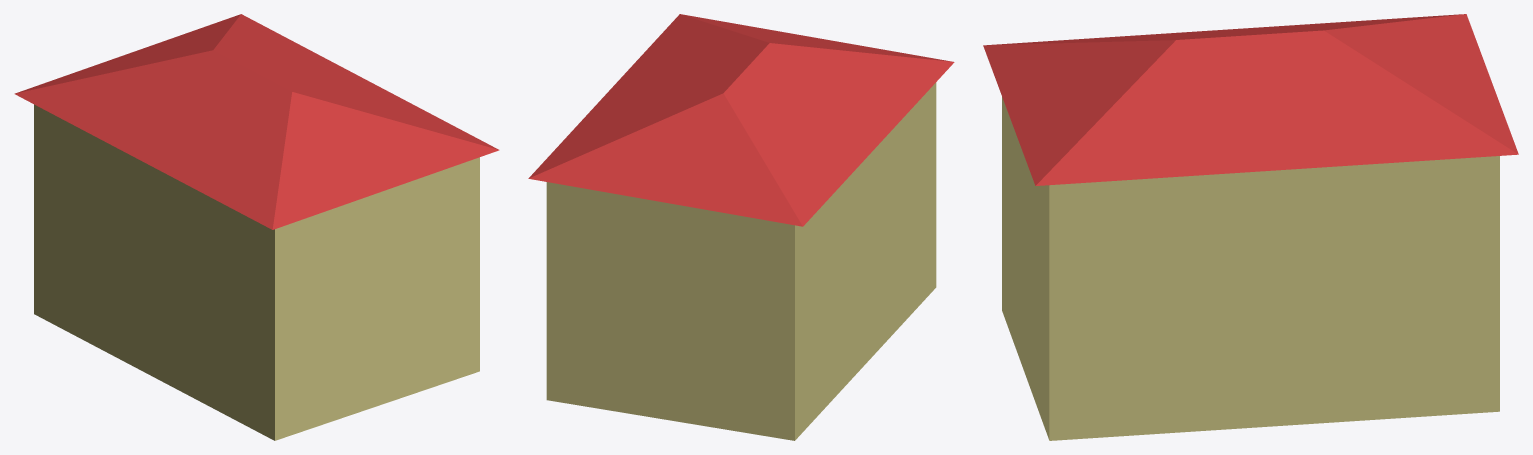
3 views of the same model, side by side, from view 1: azimuth 30°, elevation 25°; view 2: azimuth 150°, elevation 25°; view 3: azimuth 270°, elevation 25° (orthographic). The views are drawn at different scales.
Bounding box in the file's own units: 12.4 × 16.01 × 10.66.
